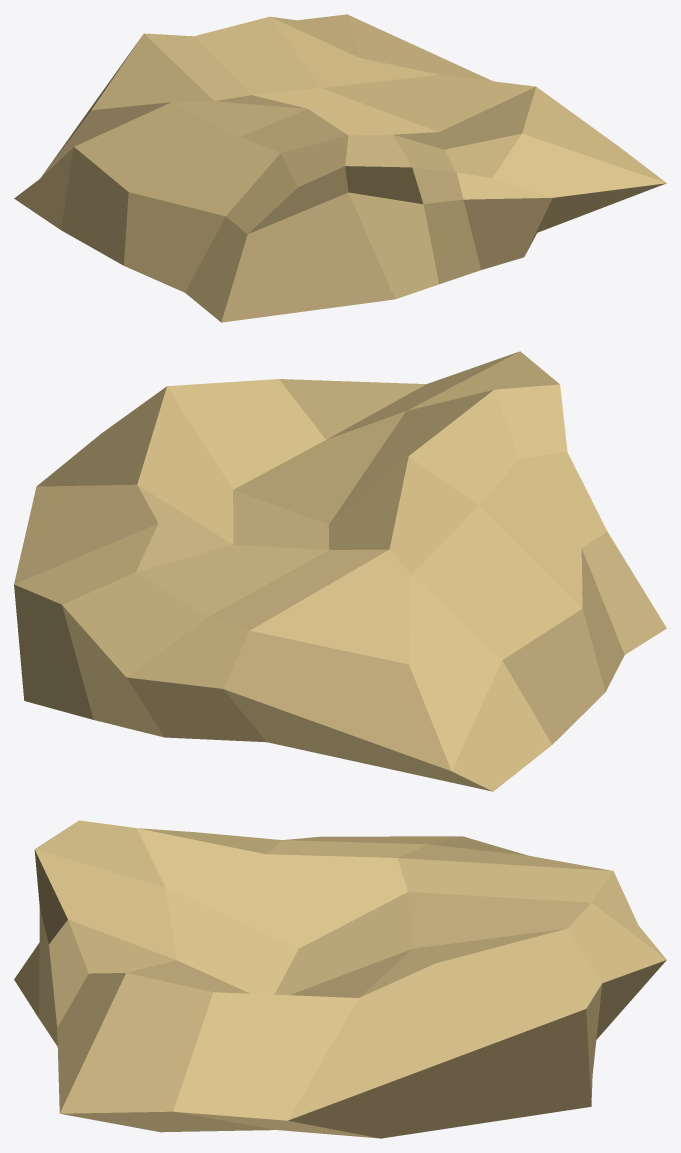
Rendered from Rock3.fbx.
3 renders of one model, top to bottom at view 1: azimuth 30°, elevation 25°; view 2: azimuth 150°, elevation 25°; view 3: azimuth 270°, elevation 25°, orthographic. The views are drawn at different scales.
Visible parts, largest first — view 1: Cube; view 2: Cube; view 3: Cube.
Part boxes in pixels (bbox=[...]): Cube: bbox=[14, 14, 666, 322]; Cube: bbox=[14, 351, 666, 791]; Cube: bbox=[14, 820, 666, 1138].
Size of the model in its own units: 280 by 90.93 by 286.
